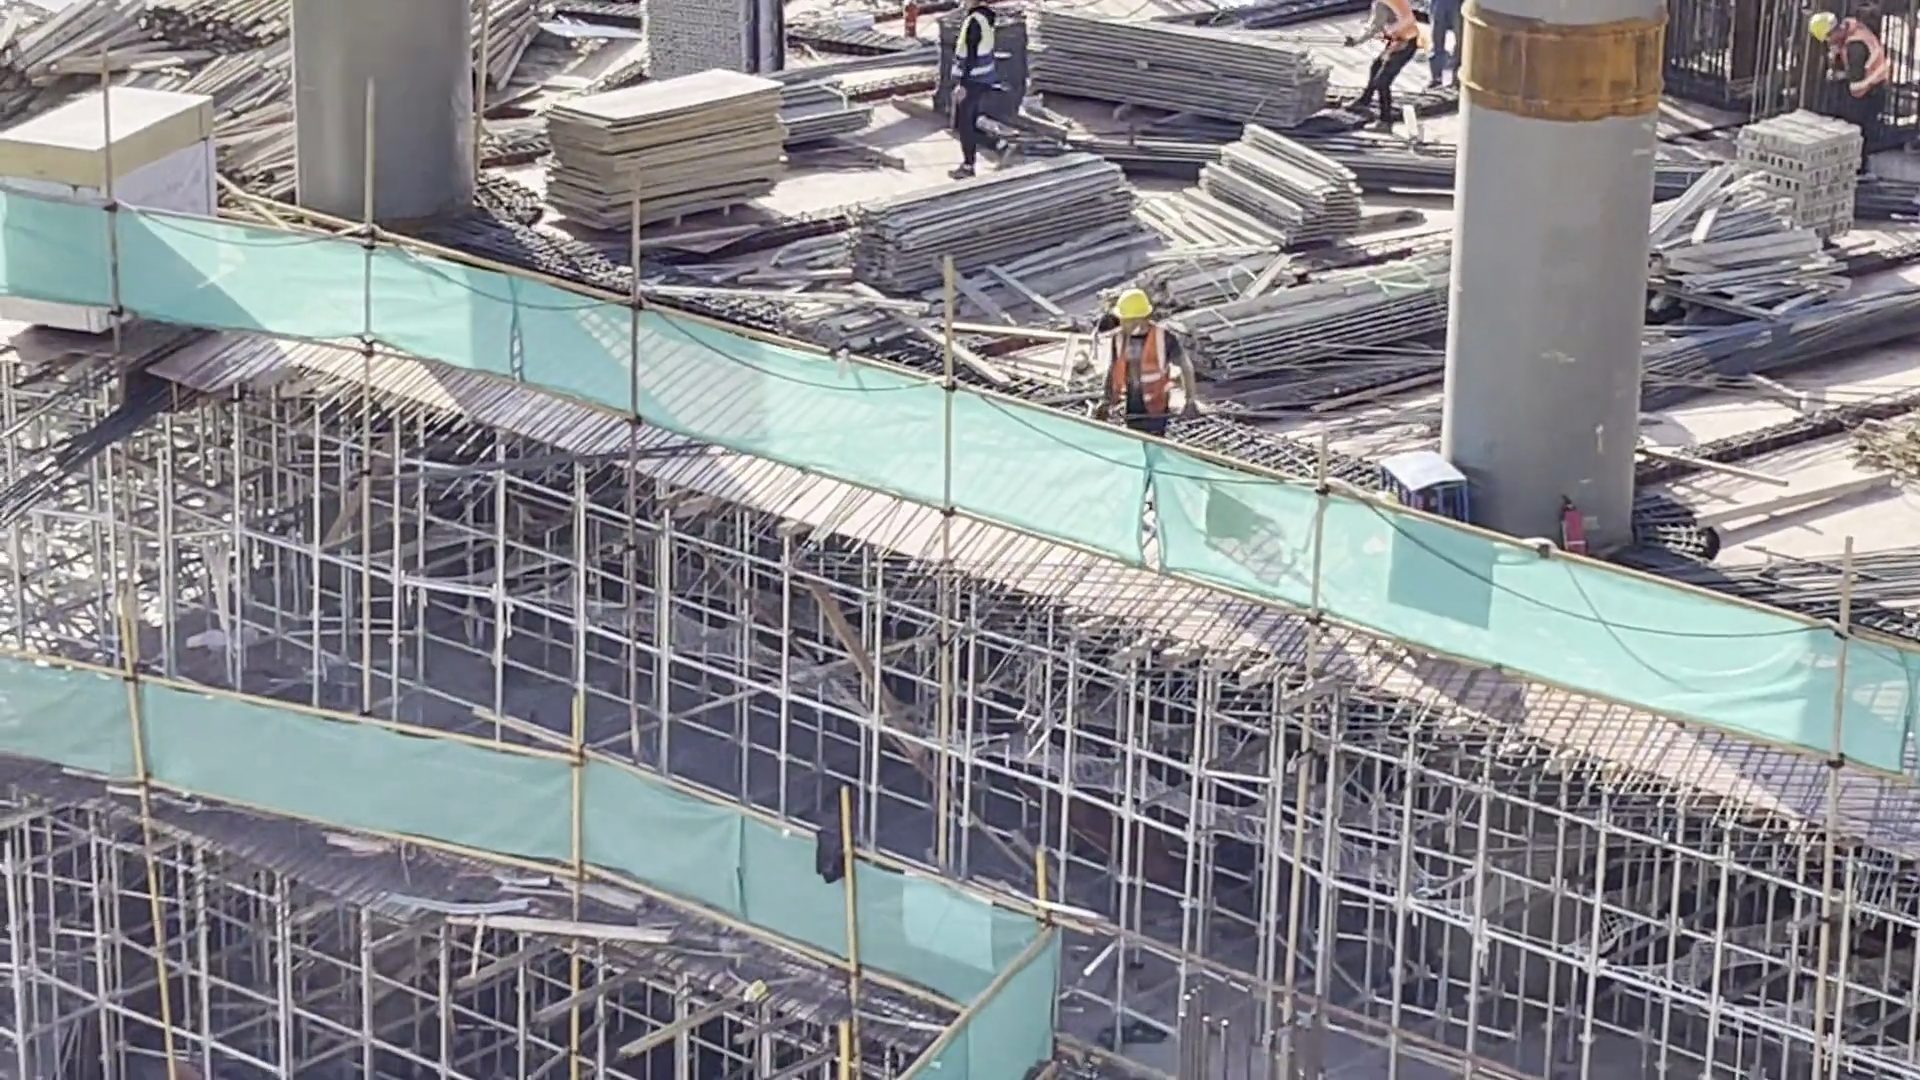board: (551, 79, 758, 226), (46, 92, 229, 221)
helmet: (1119, 286, 1154, 322), (1818, 7, 1841, 44)
person: (1098, 265, 1196, 440), (1803, 5, 1879, 178), (932, 1, 1006, 168), (1343, 1, 1395, 116), (1433, 1, 1457, 86)
rebar: (1039, 113, 1909, 221), (1634, 288, 1920, 405), (1724, 516, 1920, 608)
scaffold: (654, 1, 783, 89)
vest: (1128, 316, 1174, 414), (1831, 22, 1891, 89), (966, 11, 993, 99), (1373, 1, 1408, 42)
wood: (34, 1, 271, 79), (213, 72, 281, 211)
